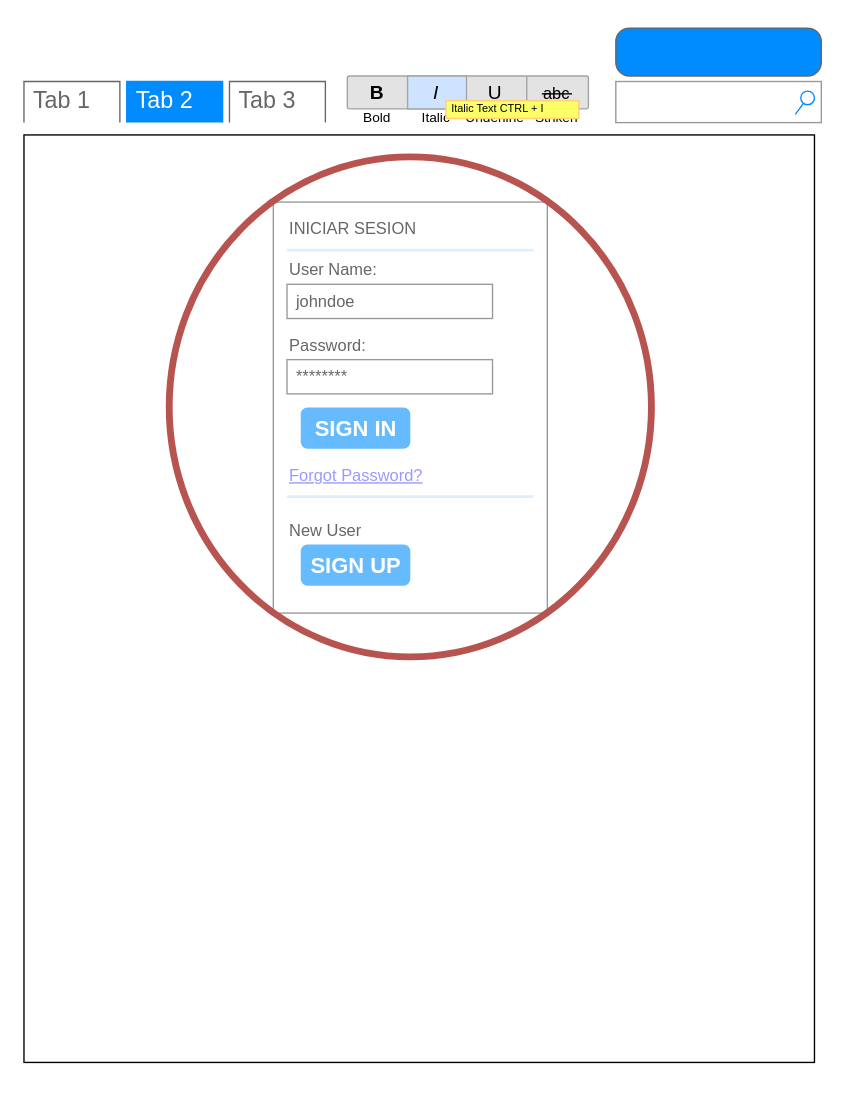
Image size: 852x1100. Some labels were removed from this diagram. The box of each missing label's shape, as (x1, y1, x2, y2) in pixels:
Search: (614, 80, 821, 123)
Ver participantes de la sesión: (614, 27, 821, 76)
